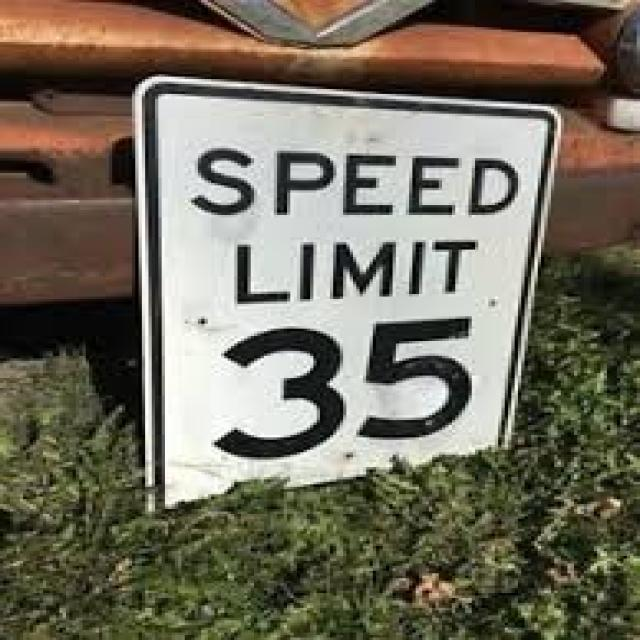speedLimit35: (123, 56, 552, 493)
